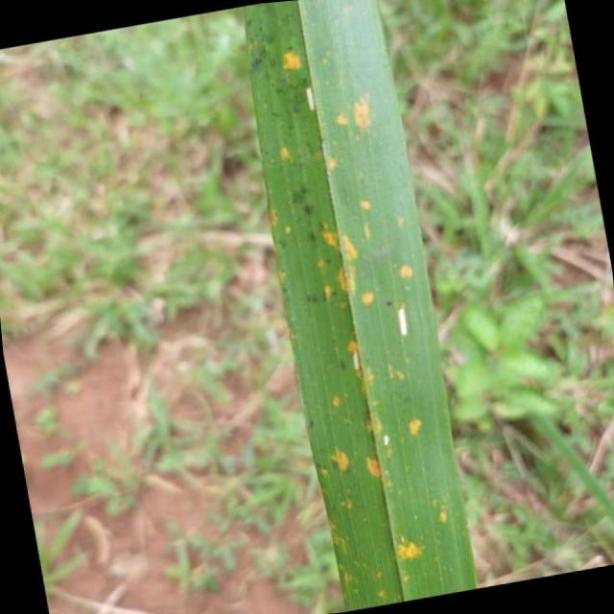Kalium: (240, 0, 489, 609)
